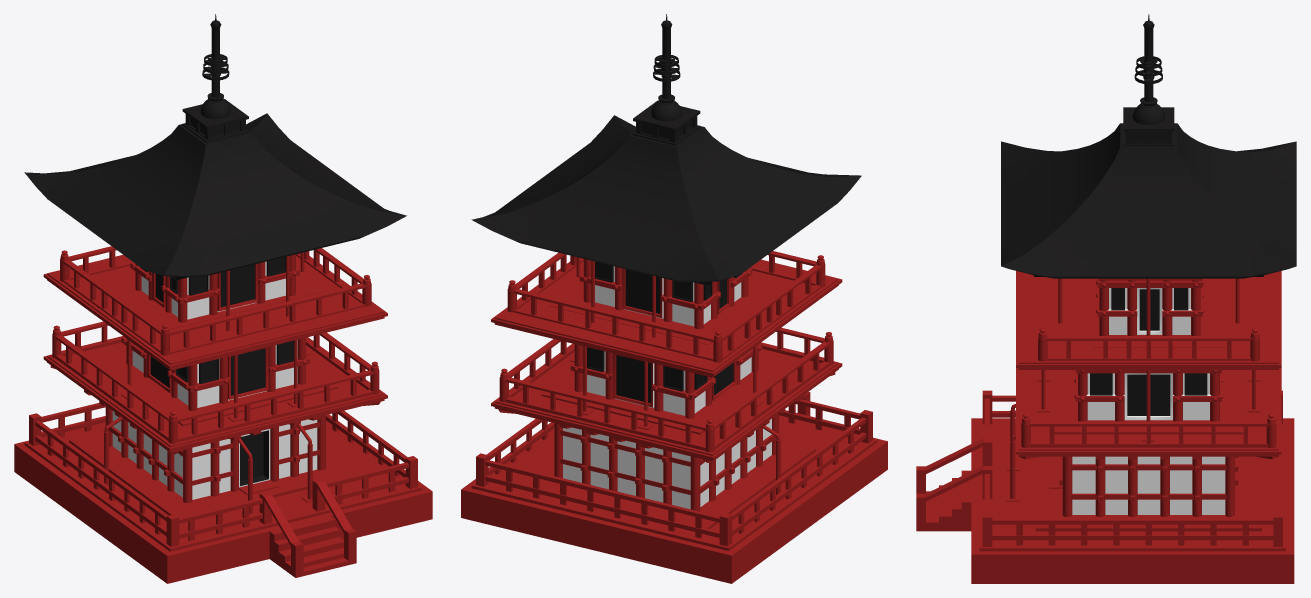
The model's file is Japon_Tapinak3.fbx.
3 renders of one model, left to right at view 1: azimuth 30°, elevation 25°; view 2: azimuth 150°, elevation 25°; view 3: azimuth 270°, elevation 25°, orthographic. The views are drawn at different scales.
Parts seen in each view (by area): view 1: Japanese_Shrine002; view 2: Japanese_Shrine002; view 3: Japanese_Shrine002.
Part boxes in pixels (left/top/right/bottom): Japanese_Shrine002: left=14, top=14, right=432, bottom=583; Japanese_Shrine002: left=461, top=14, right=887, bottom=583; Japanese_Shrine002: left=916, top=14, right=1296, bottom=583.
Size of the model in its own units: 787 by 1349 by 927.
